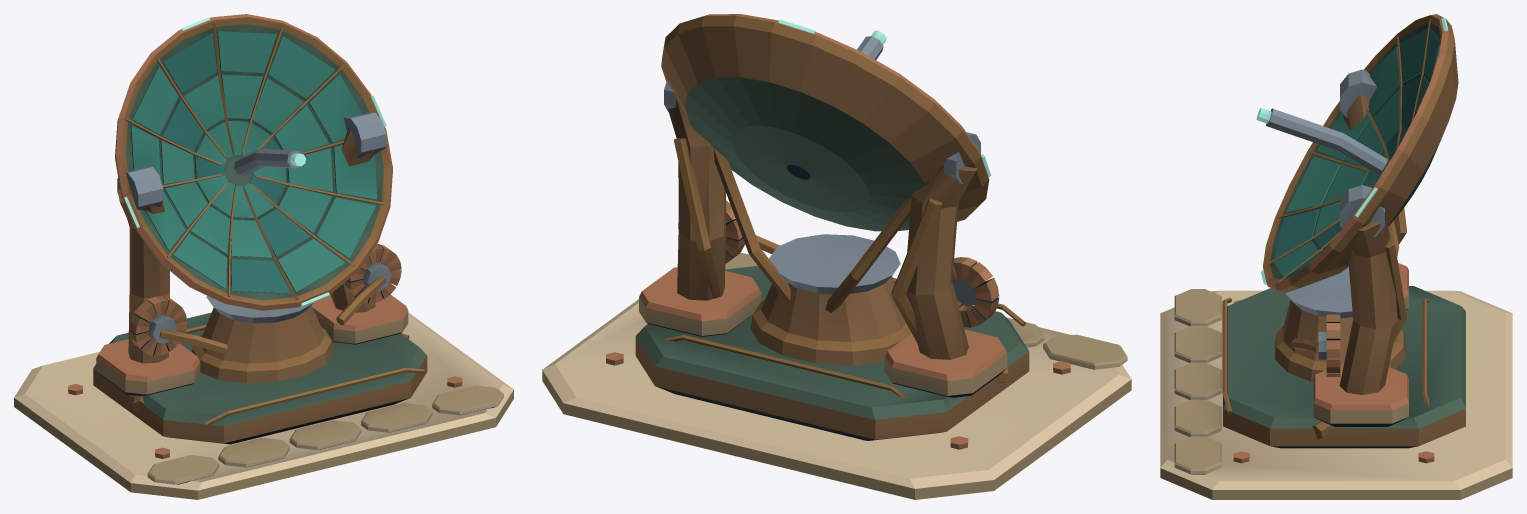
The model's file is heliostat-optical-collector.glb.
3 views of the same model, side by side, from view 1: azimuth 30°, elevation 25°; view 2: azimuth 150°, elevation 25°; view 3: azimuth 270°, elevation 25° (orthographic). The views are drawn at different scales.
Visible parts, largest first — view 1: heliostat-optical-collector; view 2: heliostat-optical-collector; view 3: heliostat-optical-collector.
Part boxes in pixels (left/top/right/bottom): heliostat-optical-collector: left=14, top=14, right=513, bottom=499; heliostat-optical-collector: left=542, top=14, right=1131, bottom=499; heliostat-optical-collector: left=1160, top=14, right=1512, bottom=499.
Size of the model in its own units: 7.58 by 6.68 by 5.68.
